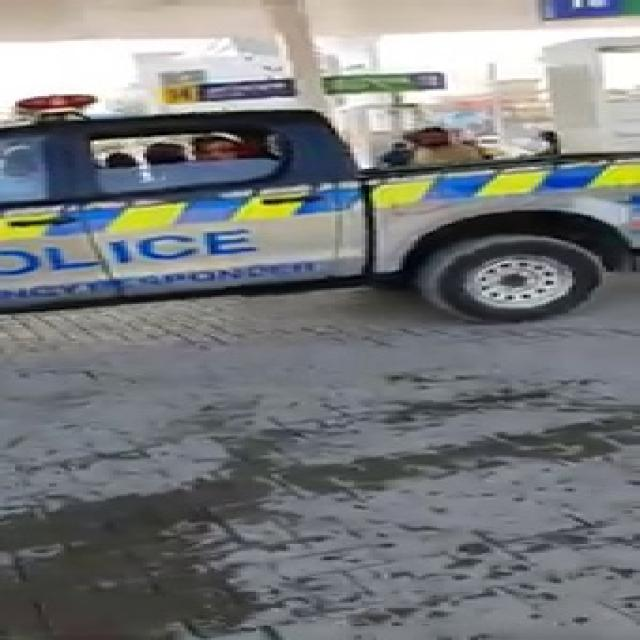police: (0, 115, 634, 336)
